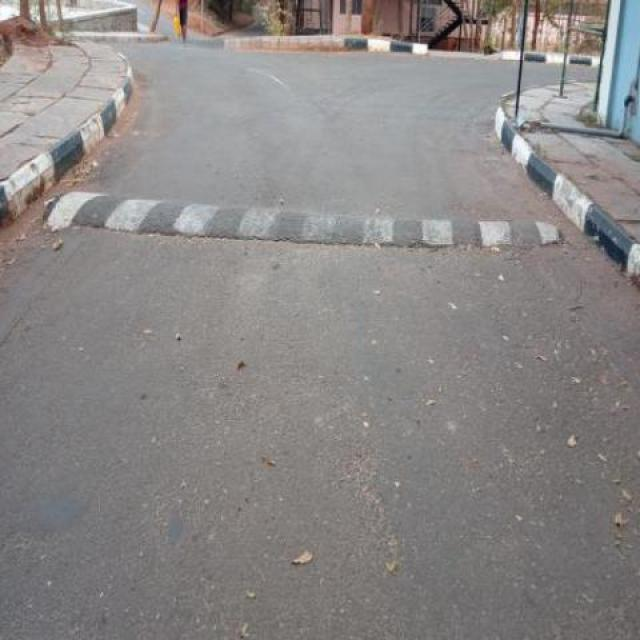Speed Bump: (41, 186, 564, 253)
